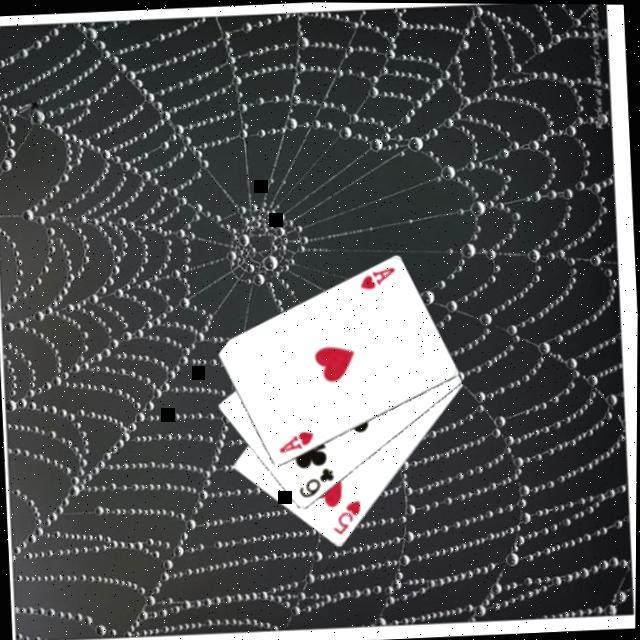5H: (328, 498, 364, 540)
6C: (293, 466, 337, 504)
AH: (355, 266, 398, 294), (274, 430, 316, 458)
